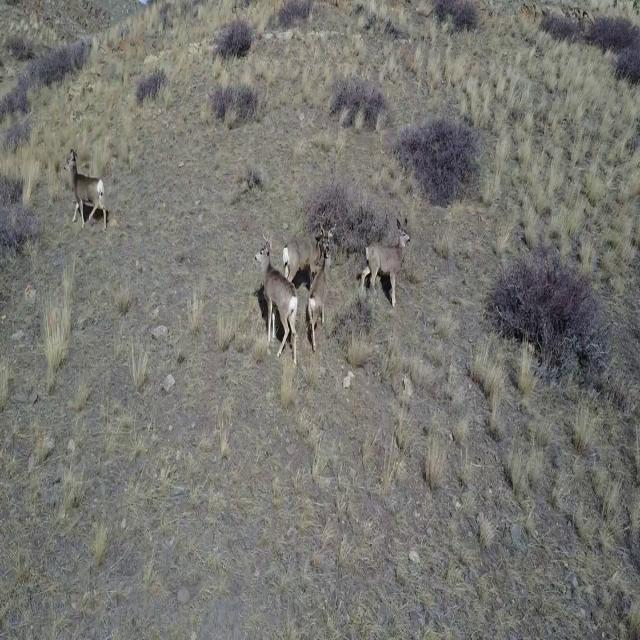Deer: (253, 230, 301, 366), (360, 218, 410, 308), (65, 148, 109, 228), (283, 212, 336, 276), (305, 244, 332, 354)
